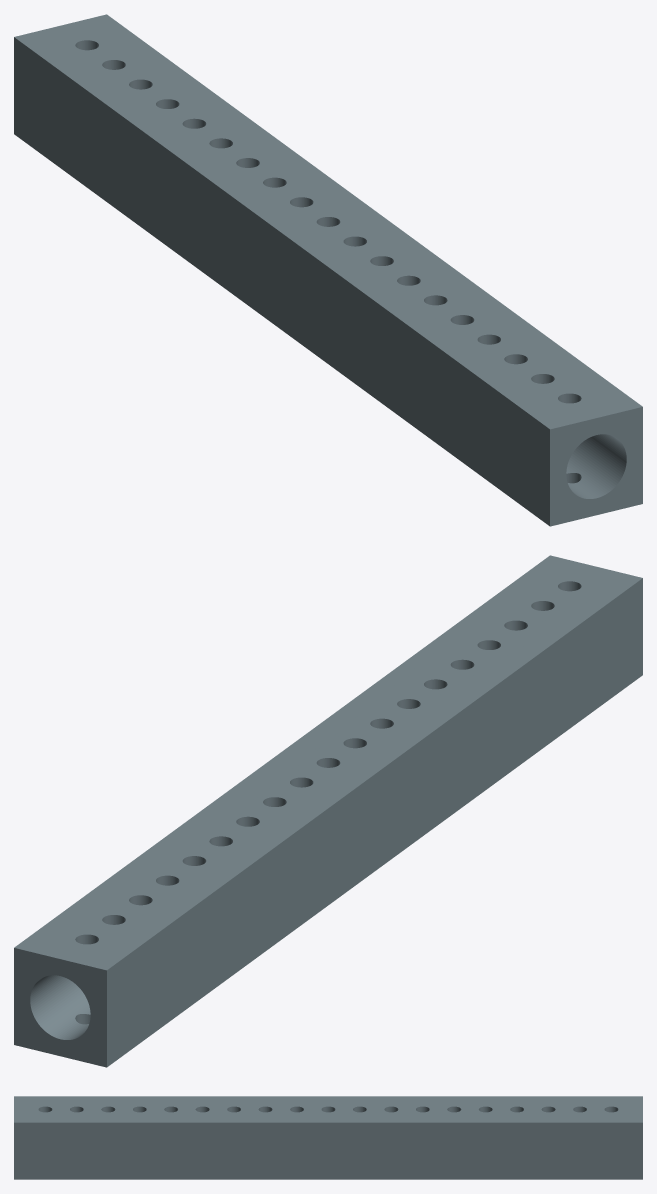
Rendered from est_barra.glb.
The picture shows the model from 3 angles, top to bottom: view 1: azimuth 30°, elevation 25°; view 2: azimuth 150°, elevation 25°; view 3: azimuth 270°, elevation 25°; orthographic projection. The views are drawn at different scales.
Visible parts, largest first — view 1: world; view 2: world; view 3: world.
Part boxes in pixels (x1,y1,x2,y2): world: (14, 14, 642, 526); world: (14, 555, 642, 1067); world: (14, 1096, 642, 1179).
Size of the model in its own units: 20 by 20 by 200.
